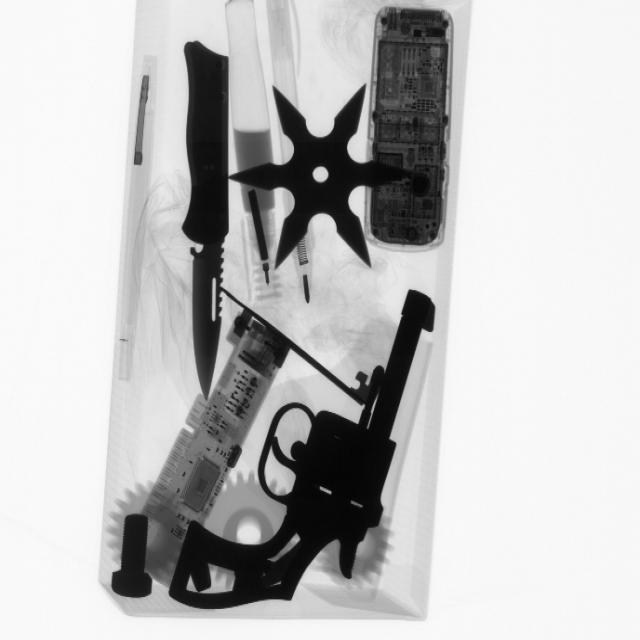GUN: (166, 287, 436, 617)
KNIFE: (169, 51, 245, 395)
SHURIKEN: (237, 72, 412, 273)
